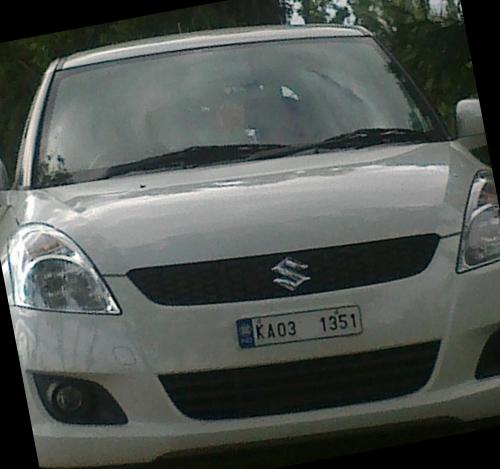plate: (232, 291, 380, 362)
